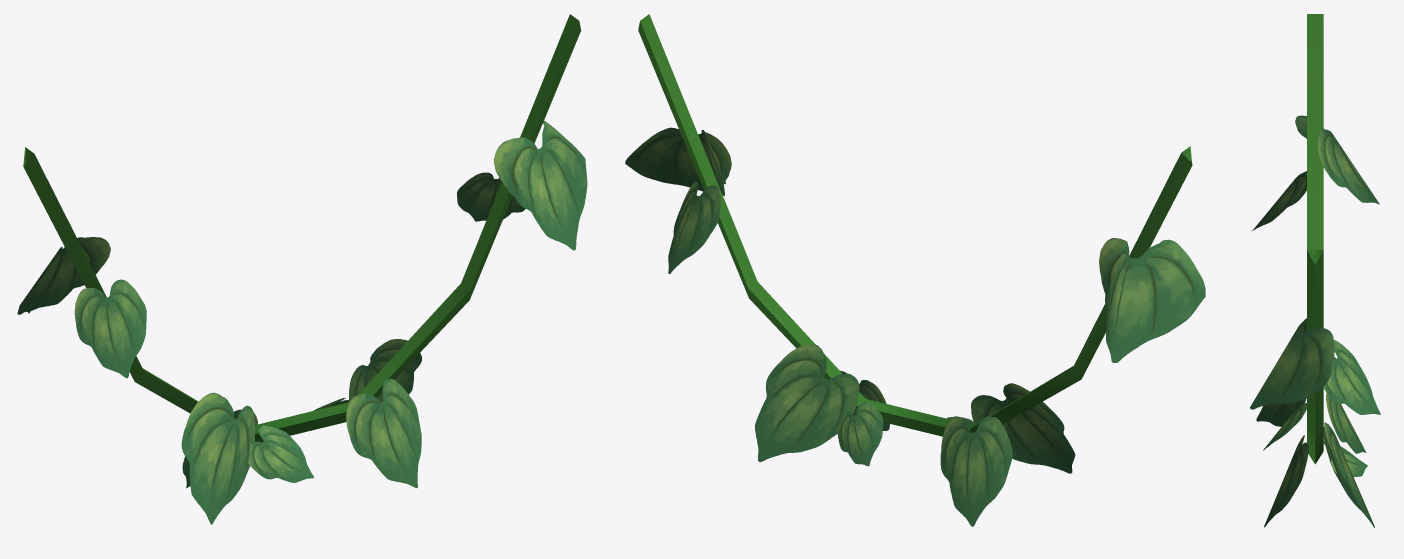
The model's file is Plant_07a.fbx.
3 renders of one model, left to right at view 1: azimuth 30°, elevation 25°; view 2: azimuth 150°, elevation 25°; view 3: azimuth 270°, elevation 25°, orthographic. The views are drawn at different scales.
Parts seen in each view (by area): view 1: Plant_07a; view 2: Plant_07a; view 3: Plant_07a.
Boxes of the visible parts, box(x1,y1,x2,y2) form: Plant_07a: box(17, 14, 587, 524); Plant_07a: box(625, 14, 1205, 526); Plant_07a: box(1250, 14, 1380, 527).
Bounding box in the file's own units: 188 × 129 × 46.86.
